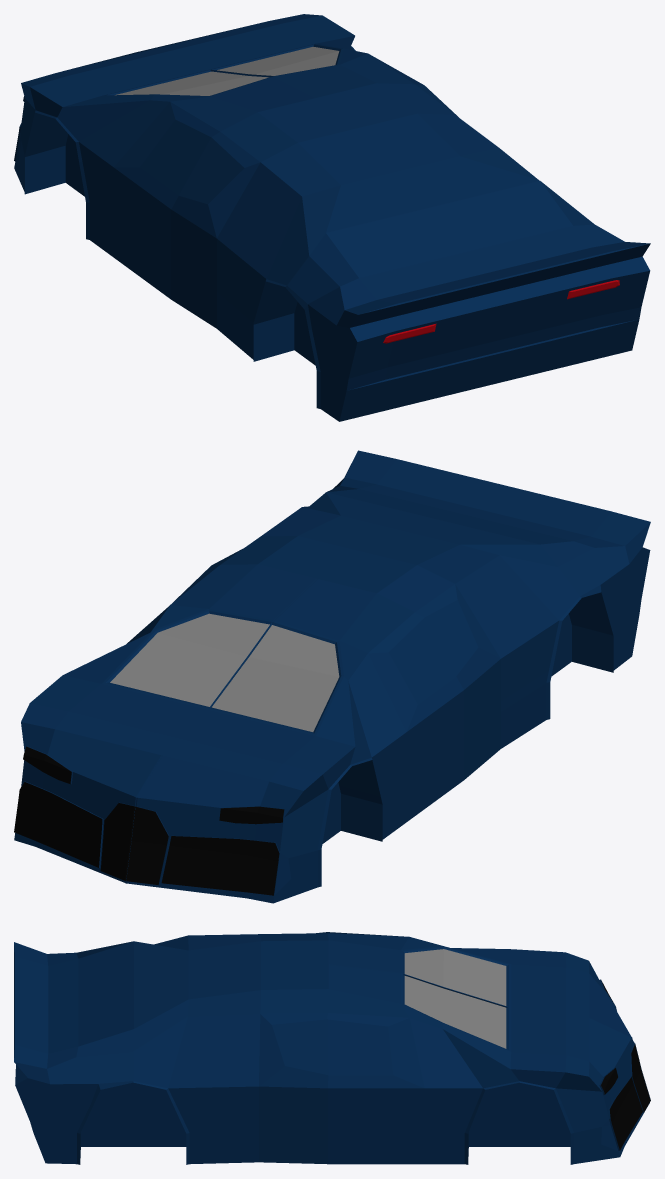
Rendered from coche3.fbx.
3 renders of one model, top to bottom at view 1: azimuth 30°, elevation 25°; view 2: azimuth 150°, elevation 25°; view 3: azimuth 270°, elevation 25°, orthographic. The views are drawn at different scales.
Parts seen in each view (by area): view 1: Cube; view 2: Cube; view 3: Cube.
Part boxes in pixels (x1=…): Cube: x1=14, y1=14, x2=650, y2=421; Cube: x1=14, y1=450, x2=650, y2=903; Cube: x1=14, y1=932, x2=650, y2=1164.
Size of the model in its own units: 135 by 72.43 by 300.
